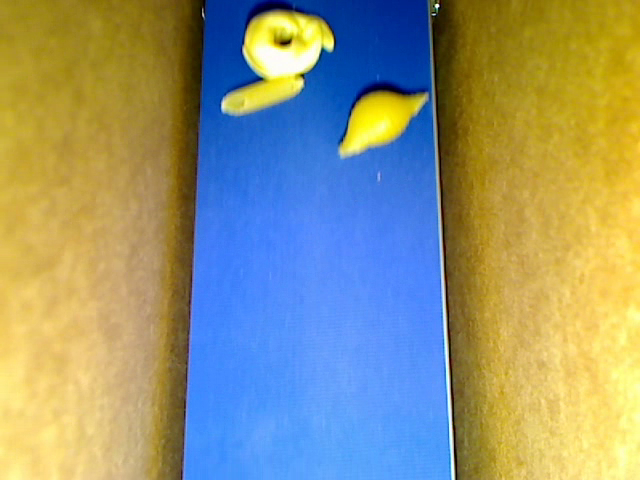penne: (220, 73, 304, 116)
shell: (338, 90, 430, 159)
tortellini: (241, 8, 334, 82)
